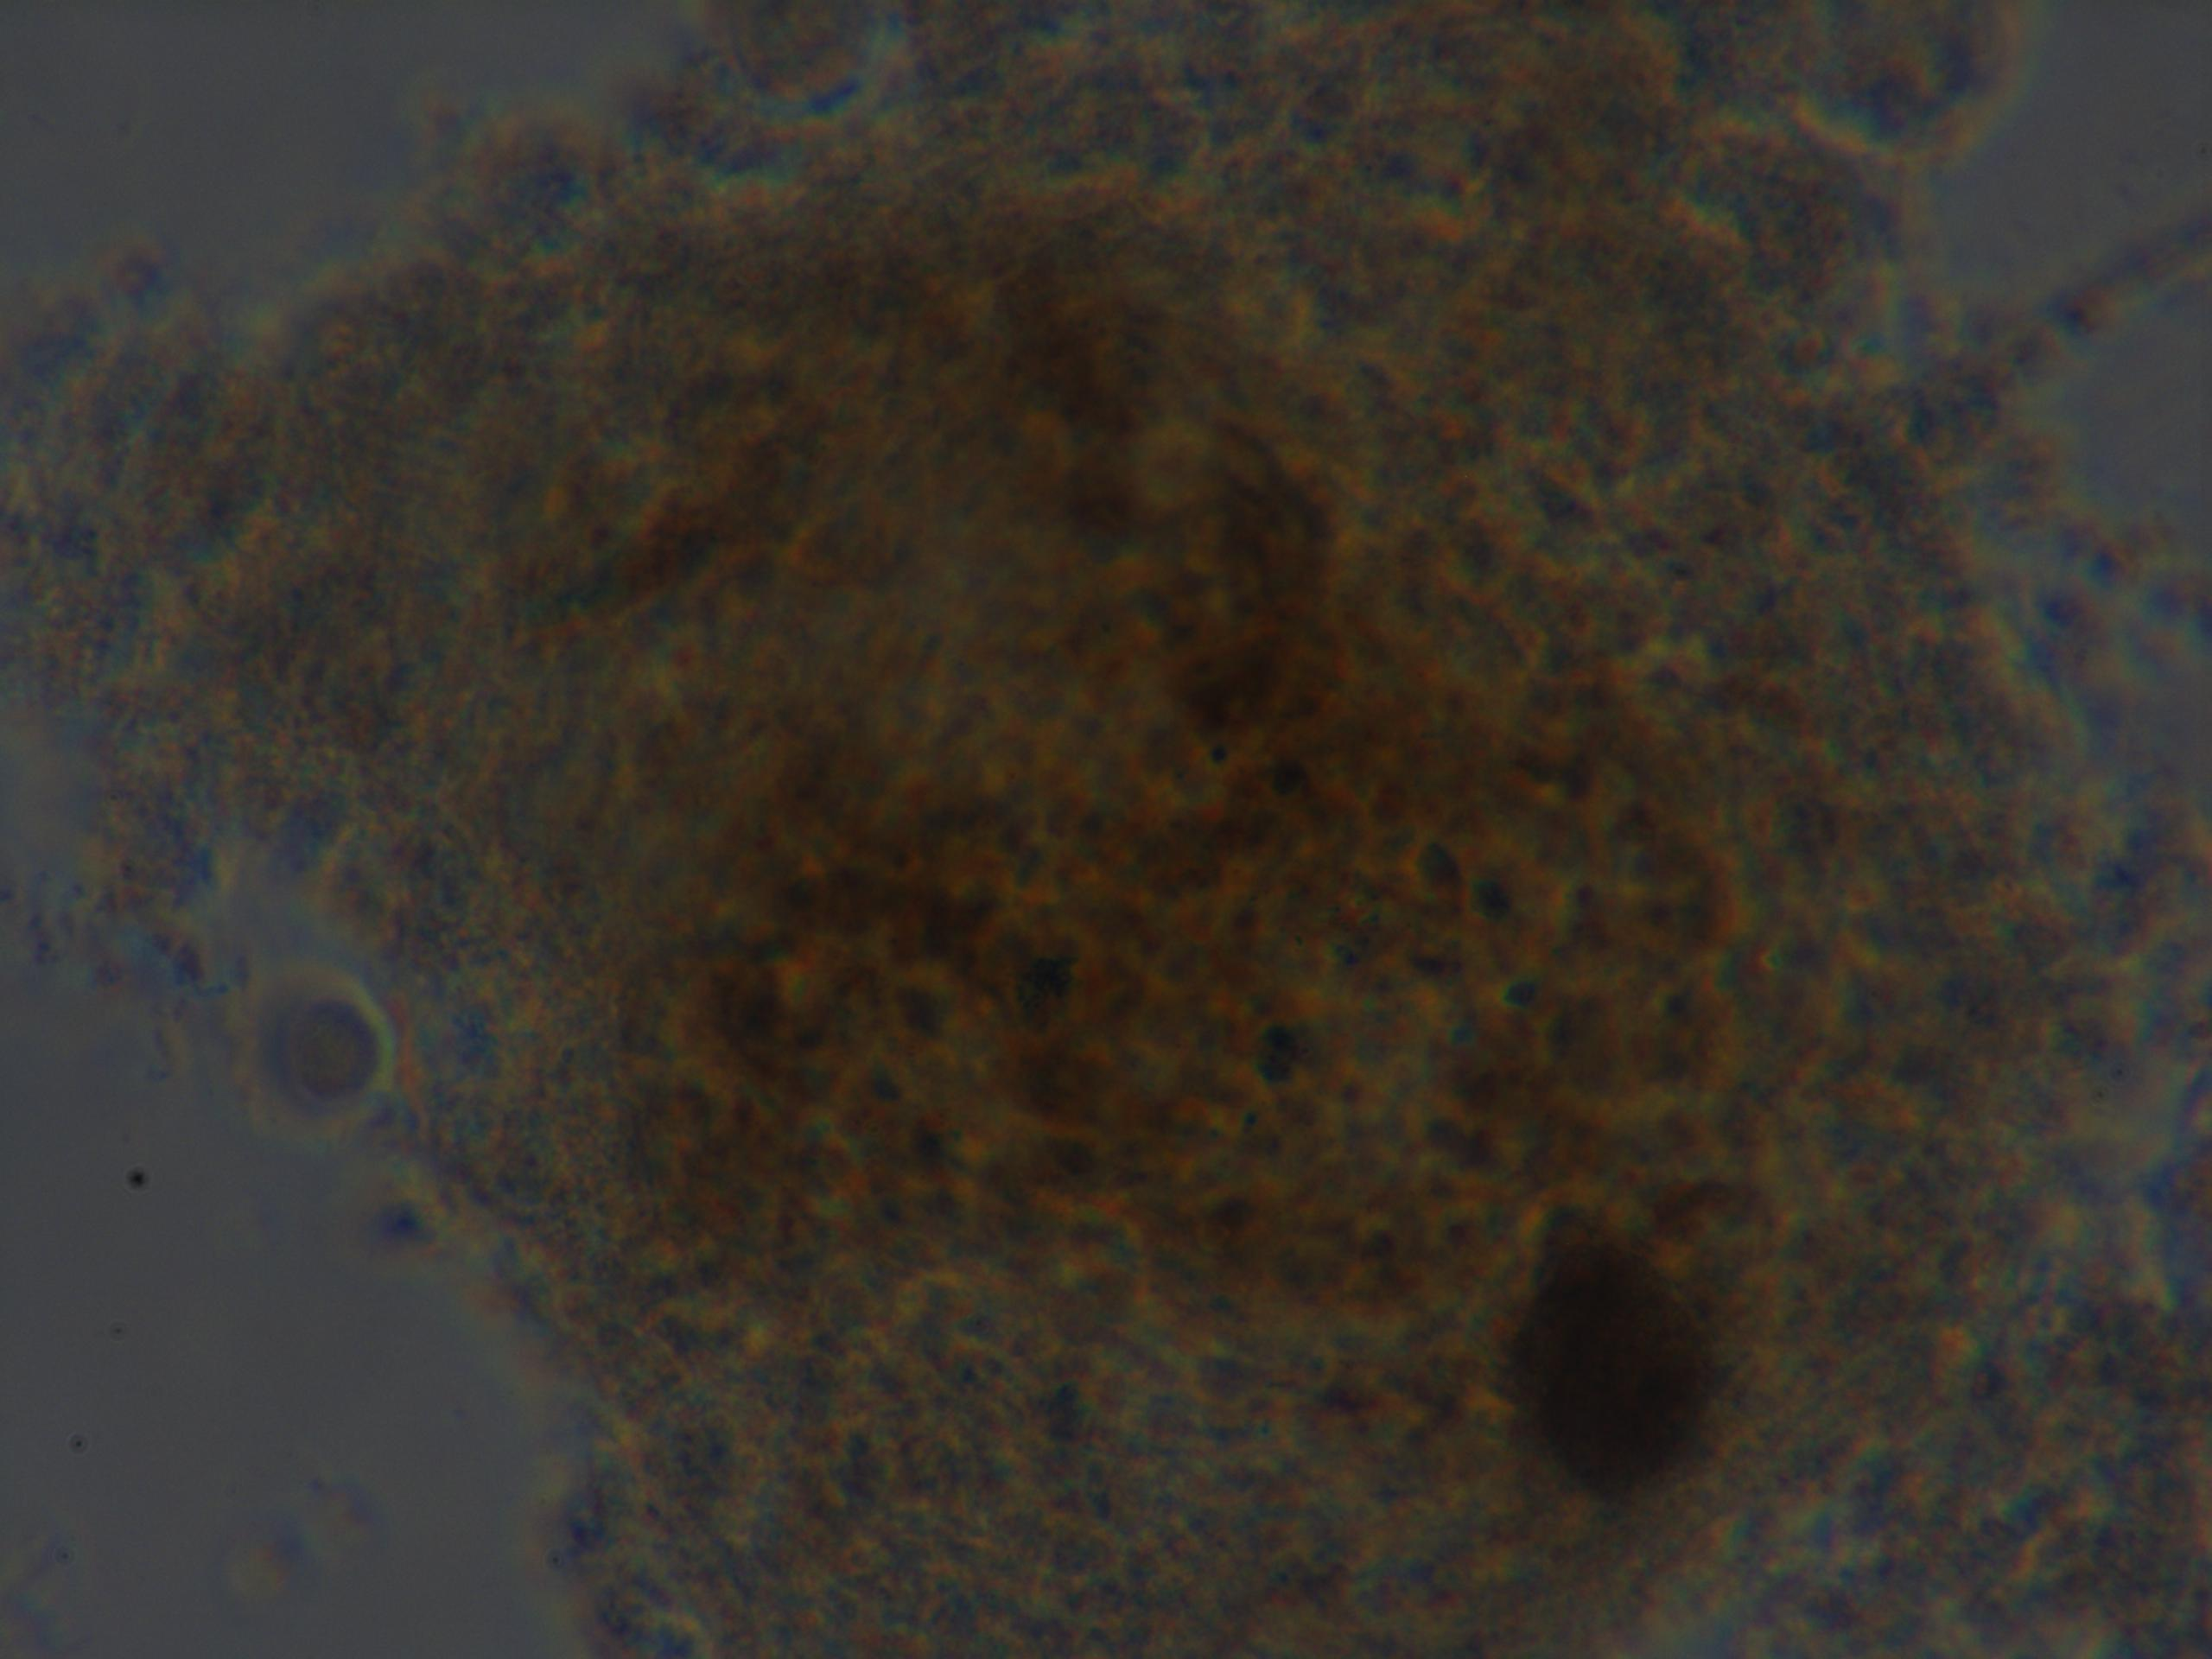spherical_floc: (148, 0, 2212, 1659)
